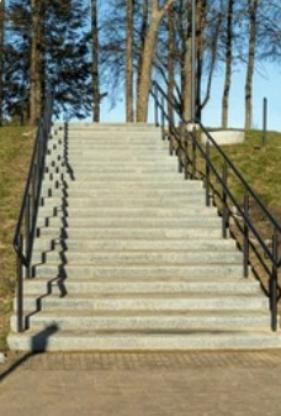stair: (46, 88, 207, 373)
